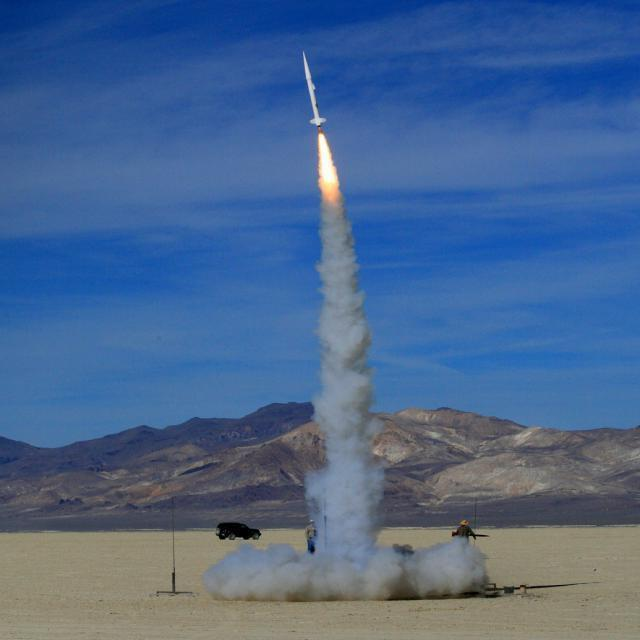missile: (296, 44, 337, 143)
